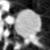node: (15, 8, 41, 42), (3, 14, 15, 27), (1, 1, 11, 13), (3, 28, 11, 38)
